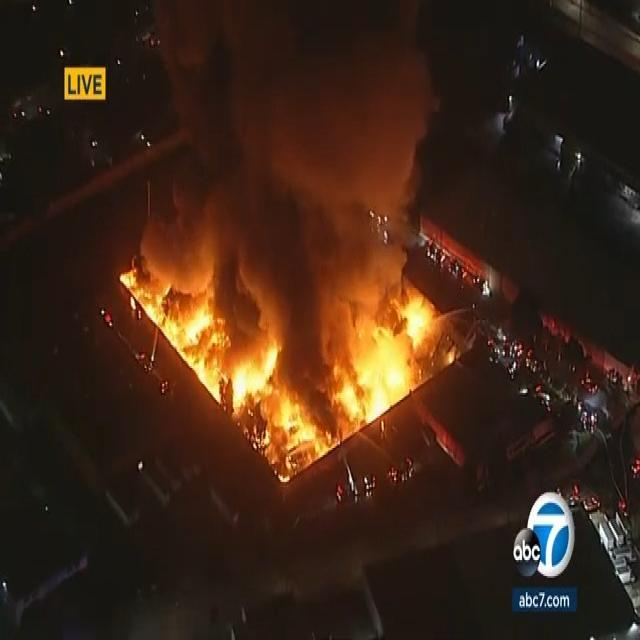Fire: (324, 339, 411, 424), (144, 294, 218, 371), (202, 348, 282, 402), (271, 398, 319, 452), (402, 292, 430, 348)
Smoke: (145, 0, 432, 393)
